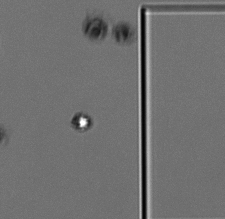Dead Cell: (84, 18, 105, 40), (114, 22, 134, 44)
Living Cell: (70, 113, 93, 131)
